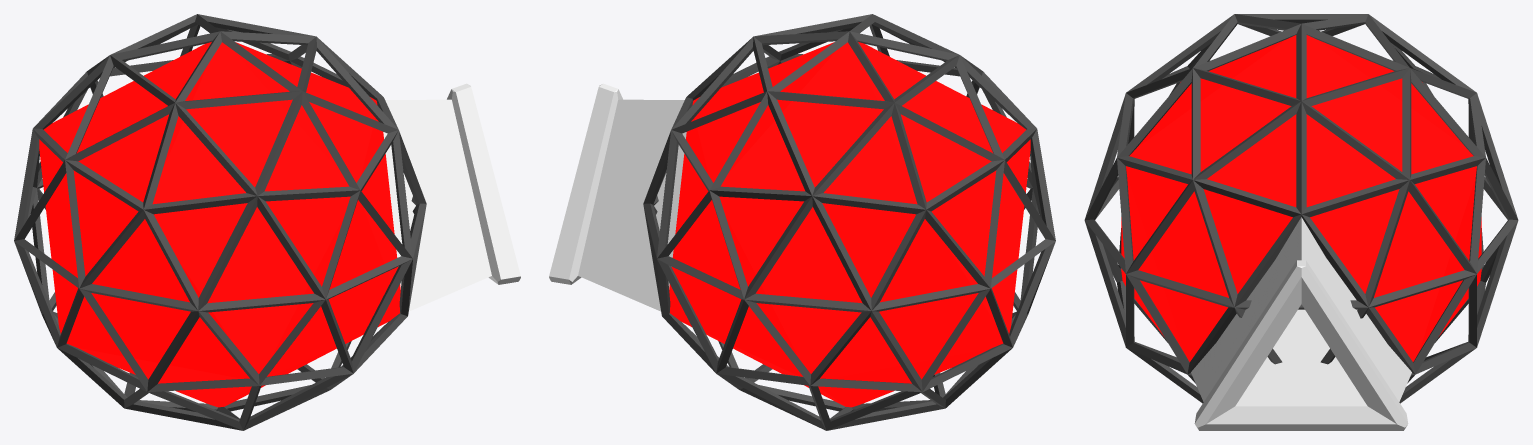
The model's file is BaseEnemy.fbx.
3 views of the same model, side by side, from view 1: azimuth 30°, elevation 25°; view 2: azimuth 150°, elevation 25°; view 3: azimuth 270°, elevation 25° (orthographic). The views are drawn at different scales.
Parts seen in each view (by area): view 1: Icosphere, Mesh, Weapon; view 2: Icosphere, Mesh, Weapon; view 3: Icosphere, Mesh, Weapon.
Boxes of the visible parts, box(x1,y1,x2,y2) form: Icosphere: box(39, 42, 400, 407); Mesh: box(14, 14, 426, 430); Weapon: box(383, 83, 520, 311); Icosphere: box(669, 42, 1030, 407); Mesh: box(643, 14, 1055, 430); Weapon: box(549, 83, 686, 311); Icosphere: box(1121, 35, 1481, 361); Mesh: box(1084, 14, 1518, 403); Weapon: box(1191, 217, 1411, 430).
Bounding box in the file's own units: 239 × 205 × 205.
